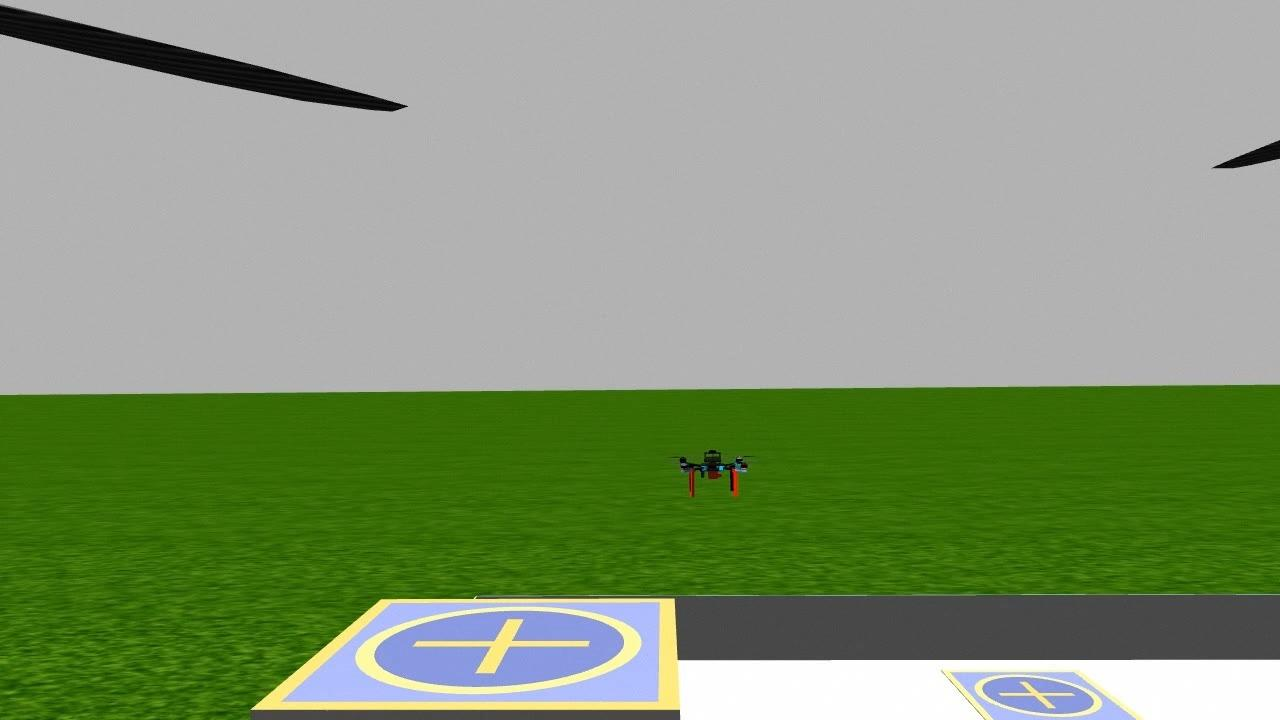UAV: (664, 428, 760, 509)
